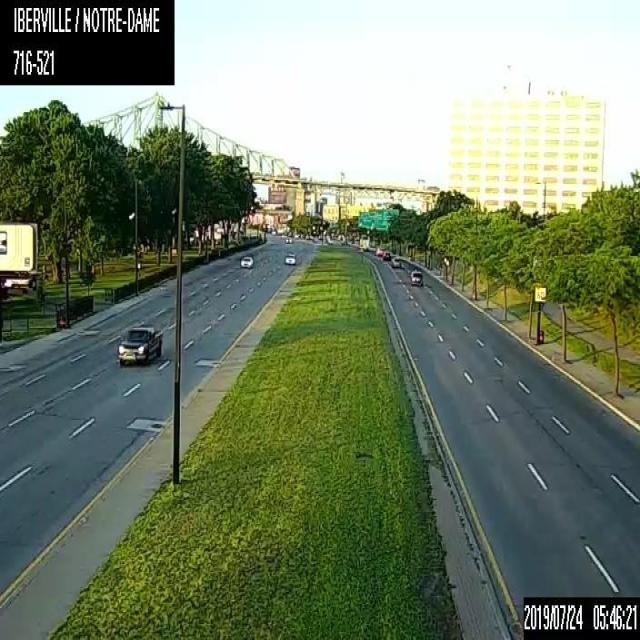vehicle: (115, 323, 162, 365), (409, 266, 423, 286), (239, 253, 254, 267), (284, 252, 296, 264), (391, 255, 400, 268), (382, 250, 390, 260), (376, 247, 384, 256), (284, 236, 292, 242)
